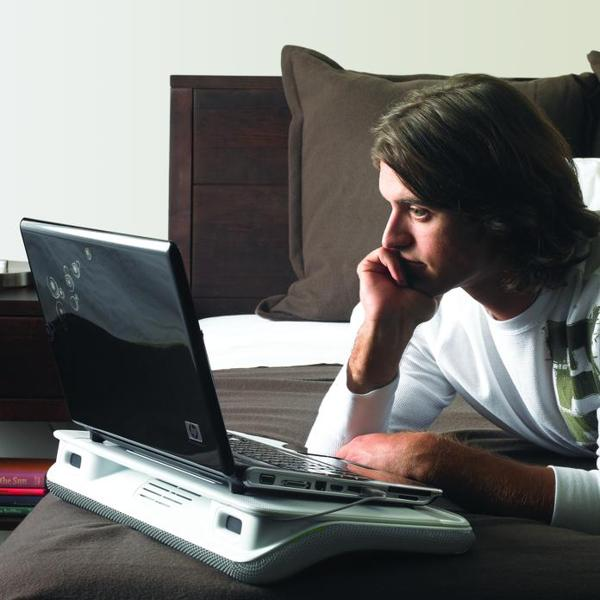person: (304, 72, 600, 536)
